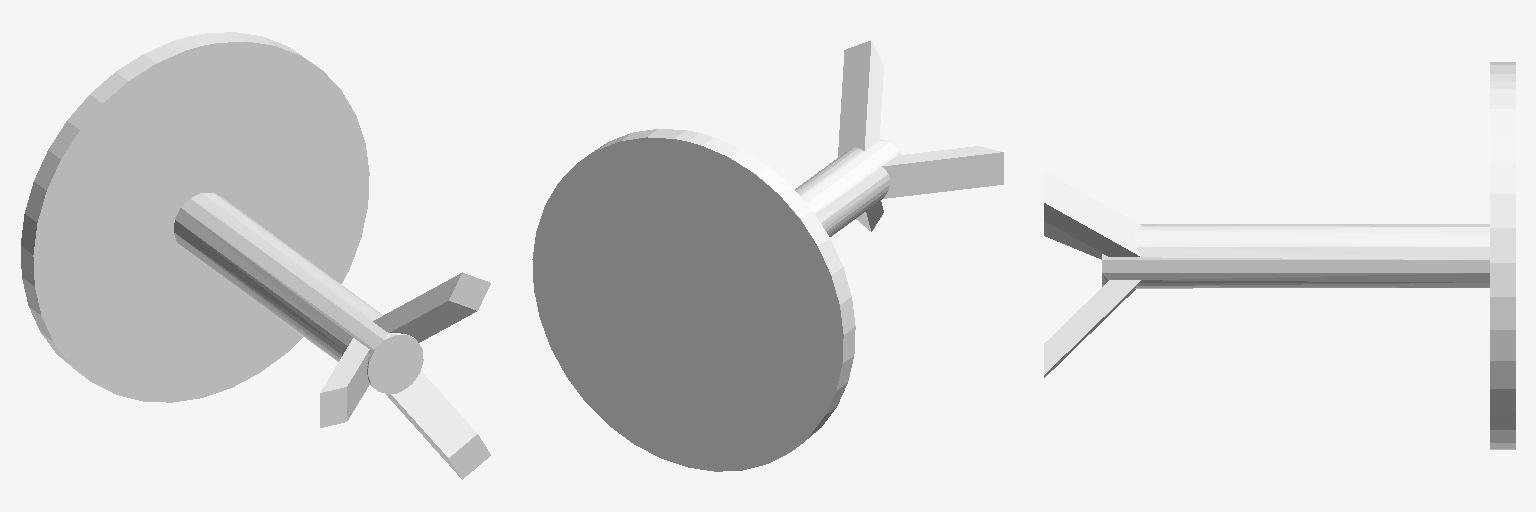
URDF robot description (ban.obj):
<robot name="ban.obj">
	<link name="_name">
		<visual>
			<origin xyz="-75.00003068822114 -145.27150142268243 -75.00253395116827" rpy="0.0 0.0 0.0" />
			<geometry>
				<mesh filename="ban.obj" scale="1 1 1" />
			</geometry>
			<material name="texture">
				<color rgba="1.0 1.0 1.0 1.0" />
			</material>
		</visual>
		<collision>
			<origin xyz="-75.00003068822114 -145.27150142268243 -75.00253395116827" rpy="0.0 0.0 0.0" />
			<geometry>
				<mesh filename="ban_vhacd.obj" scale="1 1 1" />
			</geometry>
		</collision>
		<inertial>
			<mass value="1.0" />
			<inertia ixx="1.0" ixy="0.0" ixz="0.0" iyy="1.0" iyz="0.0" izz="1.0" />
		</inertial>
	</link>
</robot>

--- What the picture shows (computed from the rendered views, not written in the file) ---
The picture shows the robot from 3 angles, left to right: view 1: azimuth 30°, elevation 25°; view 2: azimuth 150°, elevation 25°; view 3: azimuth 270°, elevation 25°; orthographic projection.
Model ban.obj with 1 links and 0 joints (none), rooted at _name, posed all joints at 0.
Links seen in each view (by area): view 1: _name; view 2: _name; view 3: _name.
Boxes of the visible links, left/top/right/bottom form: _name: left=21, top=32, right=490, bottom=479; _name: left=532, top=40, right=1003, bottom=471; _name: left=1044, top=62, right=1515, bottom=449.
Size in the robot's own frame: 150 by 182 by 150 metres.
1 mesh visuals loaded from 1 distinct referenced files (1 OBJ).